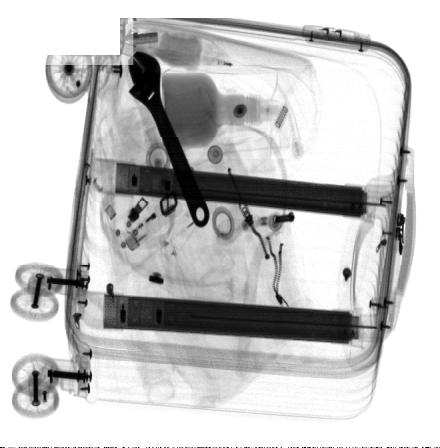Wrench: (127, 51, 210, 228)
